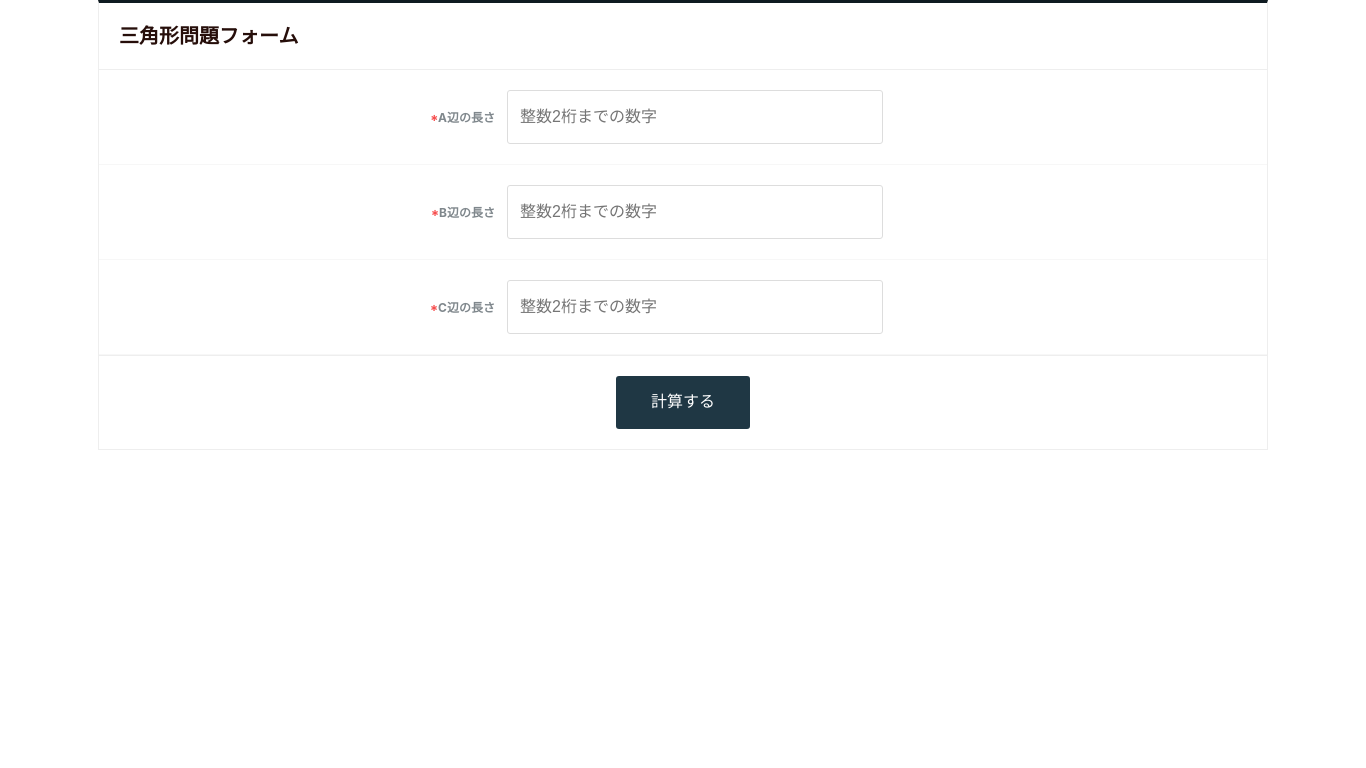
判定条件不備あり › 3つの辺の長さが等しい場合、正三角形と表示されること
Type "99" into the field with id "length_a" at (695, 117), box left=507, top=90, right=883, bottom=144
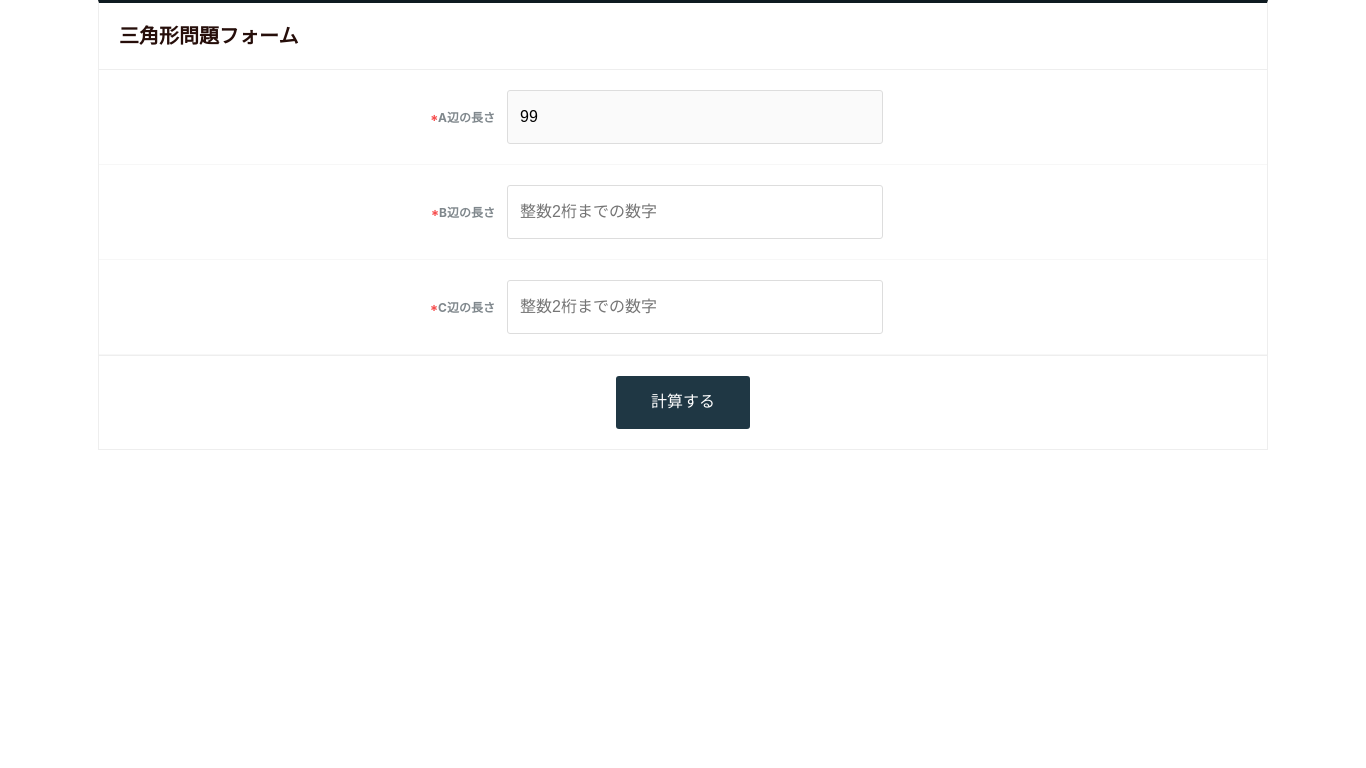
Type "99" into the field with id "length_b" at (695, 212), box left=507, top=185, right=883, bottom=239
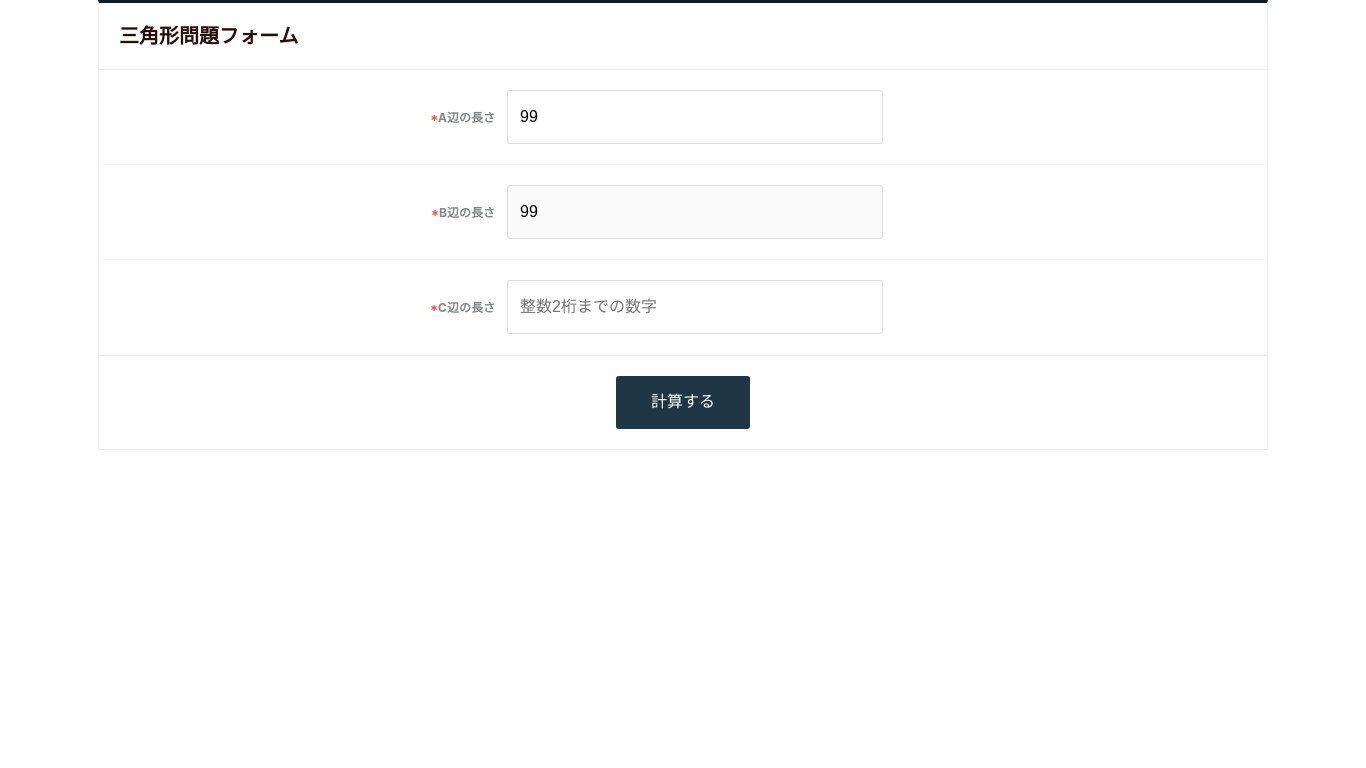
Type "99" into the field with id "length_c" at (695, 307), box left=507, top=280, right=883, bottom=334
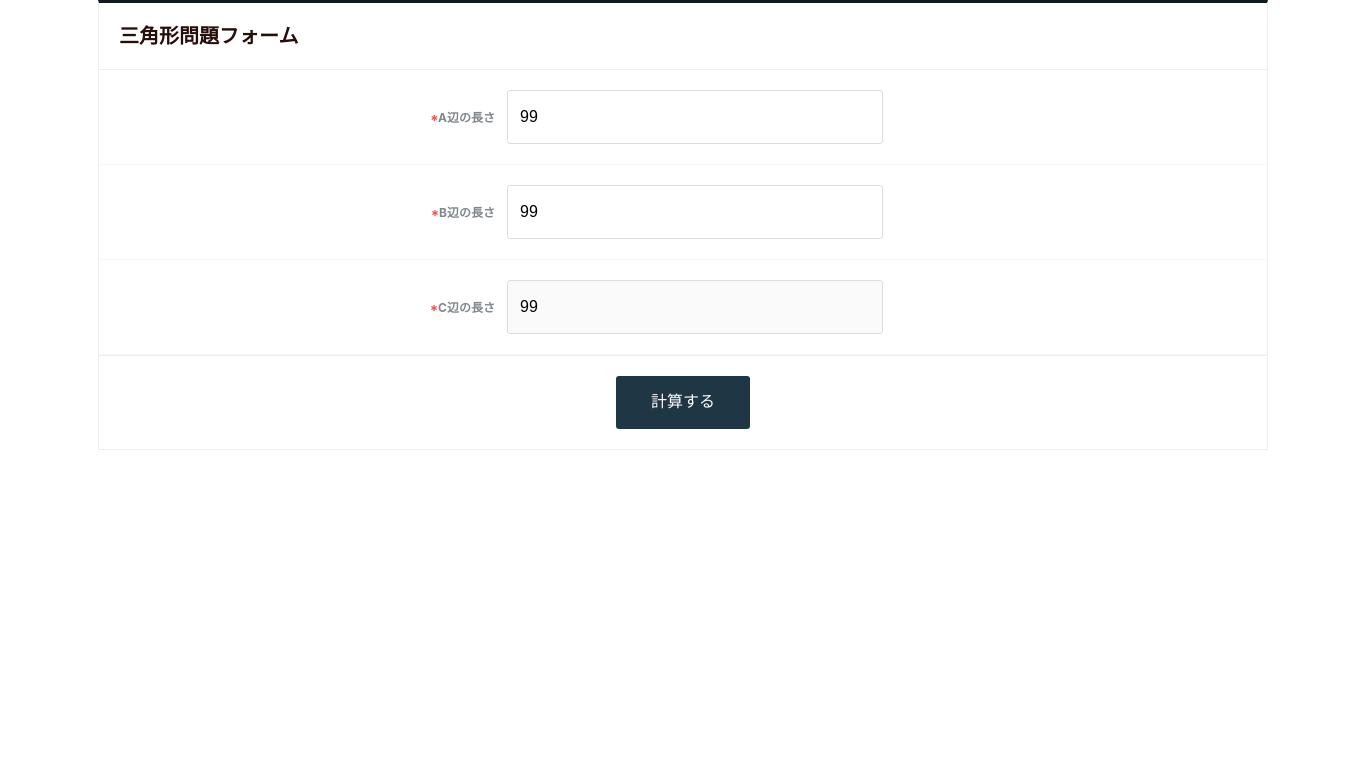
Submit the form, box left=99, top=70, right=1267, bottom=449
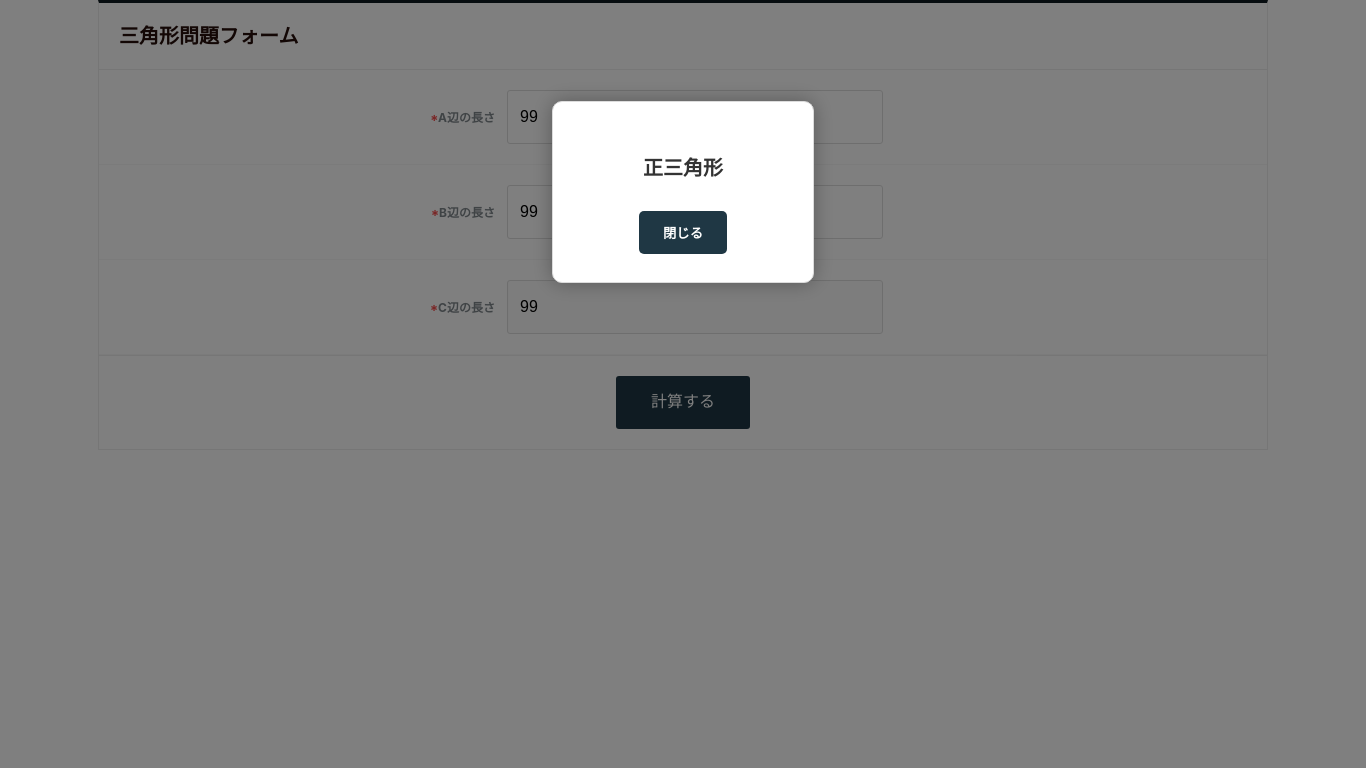
expect the text with id "modal-message" reads "正三角形": met, box left=643, top=156, right=723, bottom=180
